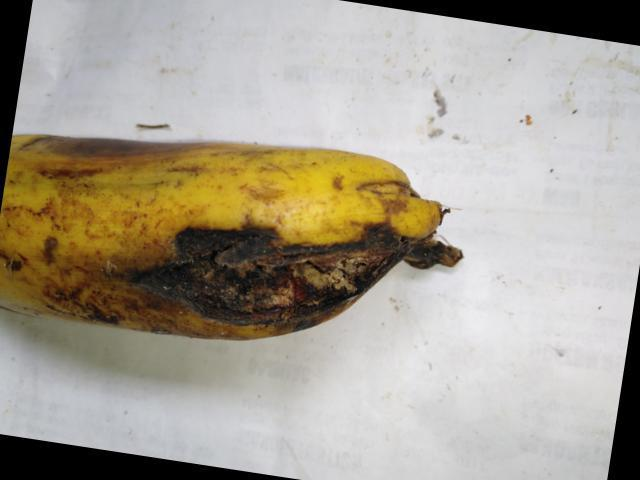rotten: (112, 200, 473, 336), (8, 72, 240, 184)
